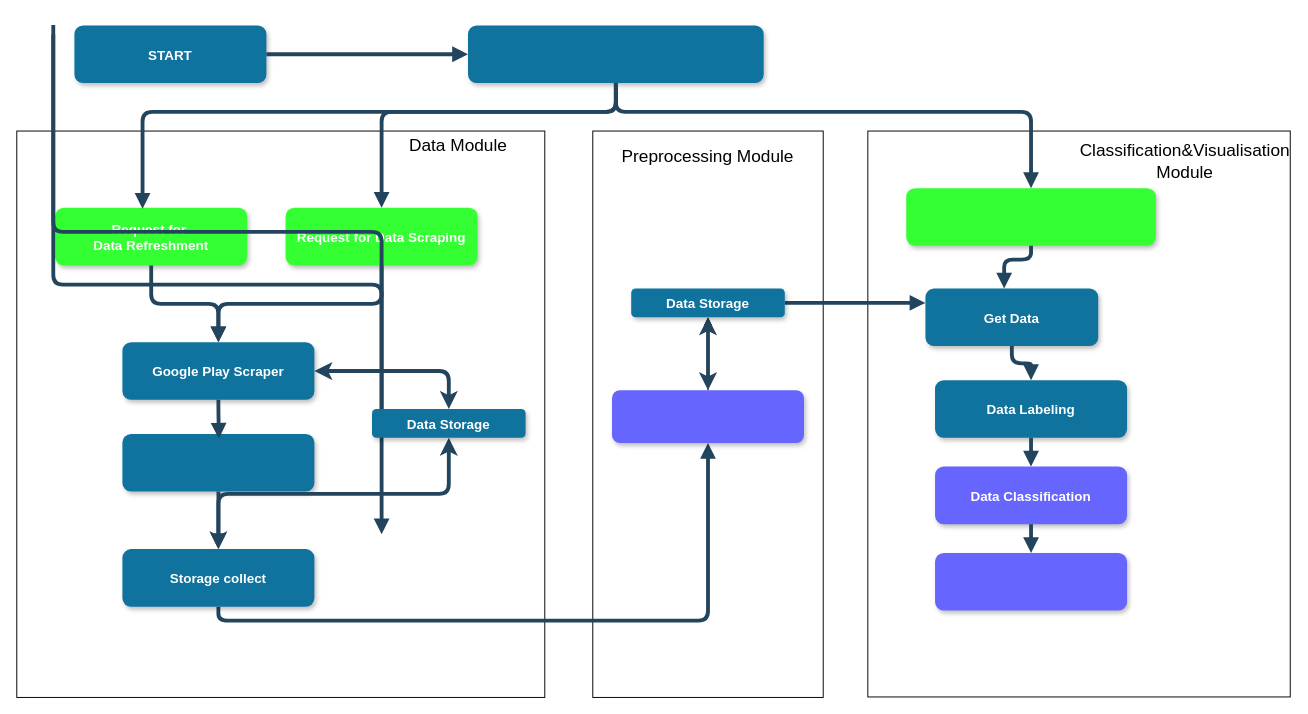
This 1308x714 diagram has some shape labels left out. The centre of each missing label's shape, as x and y in pixels:
Check requirements, Access the data: the point at 616,55
Data Gathering: the point at 219,464
Preprocessing the data: the point at 708,417
Request for App/Apps Analysis: the point at 1031,218
Visualisation: the point at 1031,583
